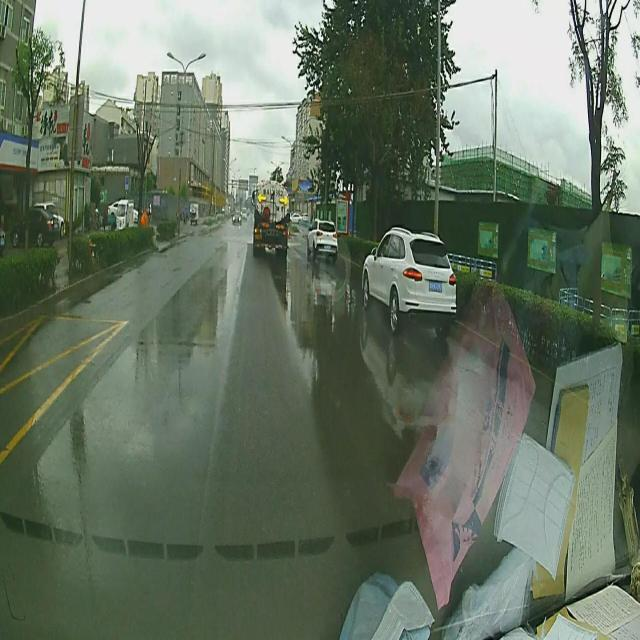car: (362, 233, 454, 333), (306, 216, 338, 258)
